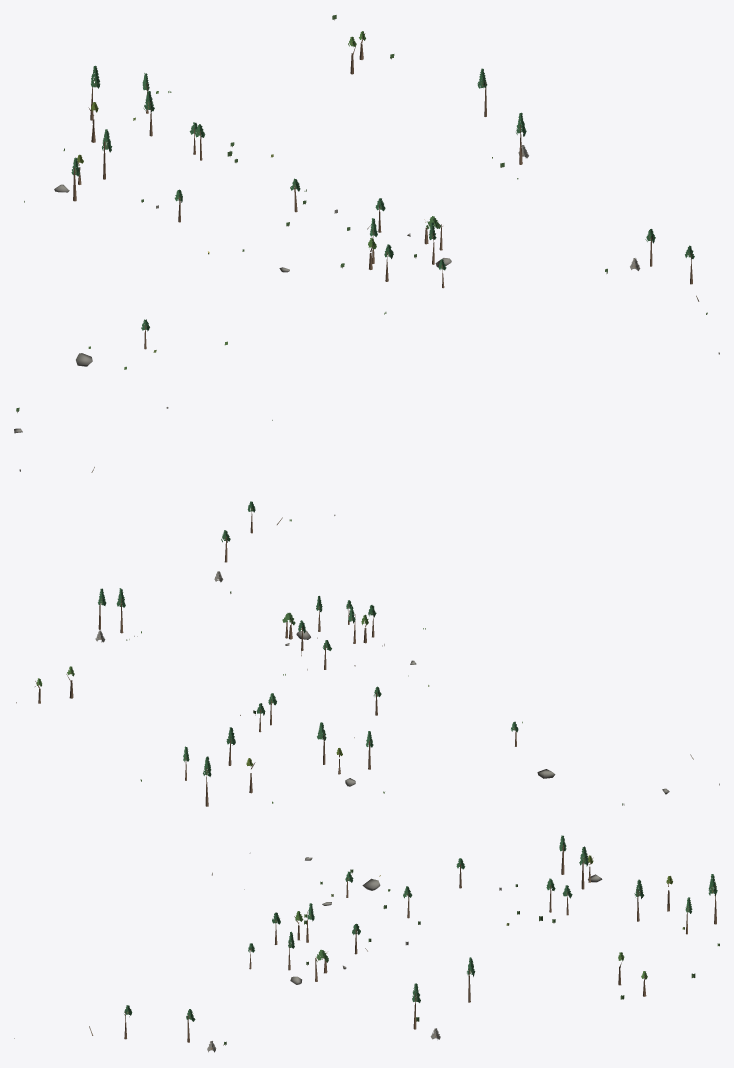
The model's file is arch_land_scatter_c19_20_lod1.glb.
3 renders of one model, top to bottom at view 1: azimuth 30°, elevation 25°; view 2: azimuth 150°, elevation 25°; view 3: azimuth 270°, elevation 25°, orthographic. The views are drawn at different scales.
Parts seen in each view (by area): view 1: arch_land_scatter_c19_20_lod1; view 2: arch_land_scatter_c19_20_lod1; view 3: arch_land_scatter_c19_20_lod1.
Boxes of the visible parts, x1=… form: arch_land_scatter_c19_20_lod1: x1=14, y1=15, x2=719, y2=472; arch_land_scatter_c19_20_lod1: x1=16, y1=501, x2=719, y2=806; arch_land_scatter_c19_20_lod1: x1=14, y1=835, x2=719, y2=1052.
Size of the model in its own units: 152 by 40.73 by 168.
